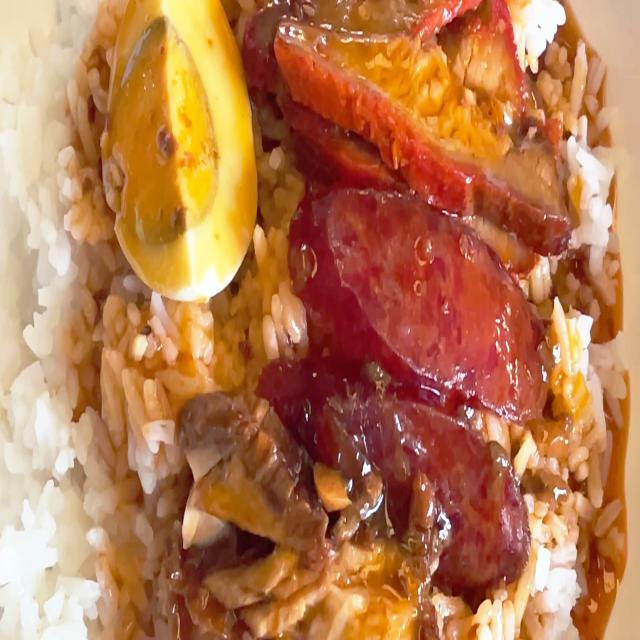boiled_egg: (111, 6, 243, 266)
chainese_sausage: (275, 186, 550, 552)
crispy_pork: (184, 407, 298, 578), (219, 546, 424, 640)
red_pork: (274, 0, 536, 199)
red_pork_and_crispy_pork: (0, 0, 640, 640)
rice: (0, 0, 96, 640), (586, 63, 638, 640), (94, 296, 177, 640)
